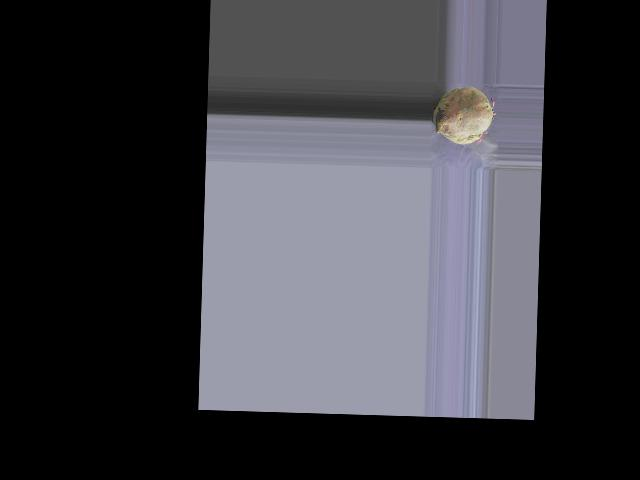beet: (432, 86, 495, 145)
